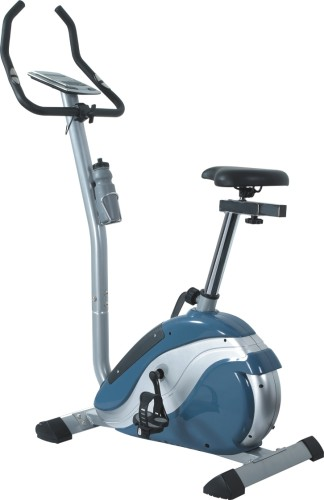gym_bike: (1, 5, 321, 495)
